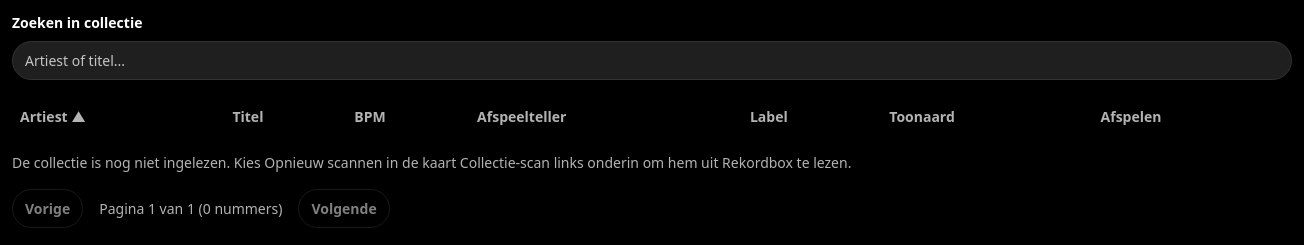
Test: TrackTable › shows an empty state when nothing matches
Step 1. Type "iets dat niet bestaat" into the field labelled "Zoeken in collectie" → x=652, y=60, box [12,41,1292,80]
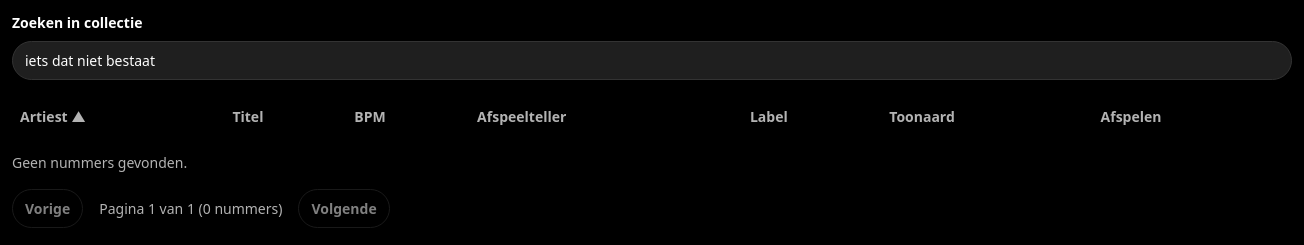
Expected: the text "Geen nummers gevonden." is shown, [12,153,187,172]
